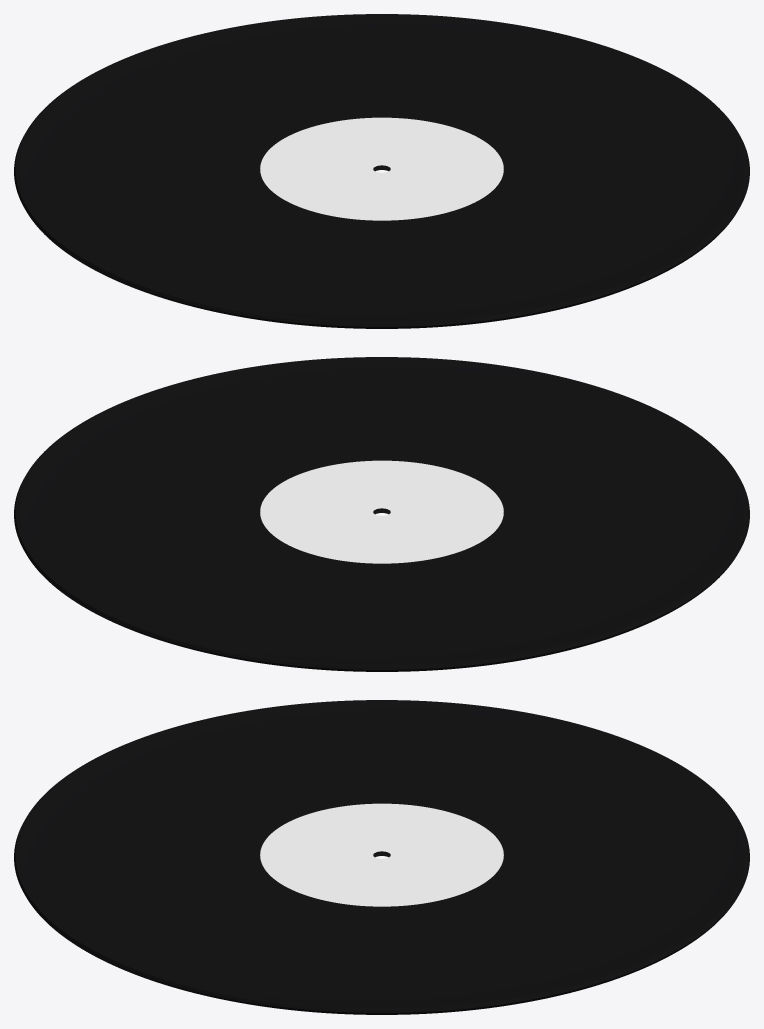
Rendered from vinyl_record.glb.
3 renders of one model, top to bottom at view 1: azimuth 30°, elevation 25°; view 2: azimuth 150°, elevation 25°; view 3: azimuth 270°, elevation 25°, orthographic.
Parts seen in each view (by area): view 1: vinyl_a, label_a, vinyl_b; view 2: vinyl_a, label_a, vinyl_b; view 3: vinyl_a, label_a, vinyl_b.
Part boxes in pixels (x1,y1,x2,y2): vinyl_a: (14, 14, 749, 326); label_a: (260, 117, 503, 220); vinyl_b: (29, 165, 735, 328); vinyl_a: (14, 357, 749, 669); label_a: (260, 460, 503, 563); vinyl_b: (28, 508, 734, 671); vinyl_a: (14, 700, 749, 1012); label_a: (260, 803, 503, 906); vinyl_b: (29, 851, 734, 1014).
Size of the model in its own units: 0.302 by 0.00256 by 0.302.
Materials: 4 (2 with a texture image).
